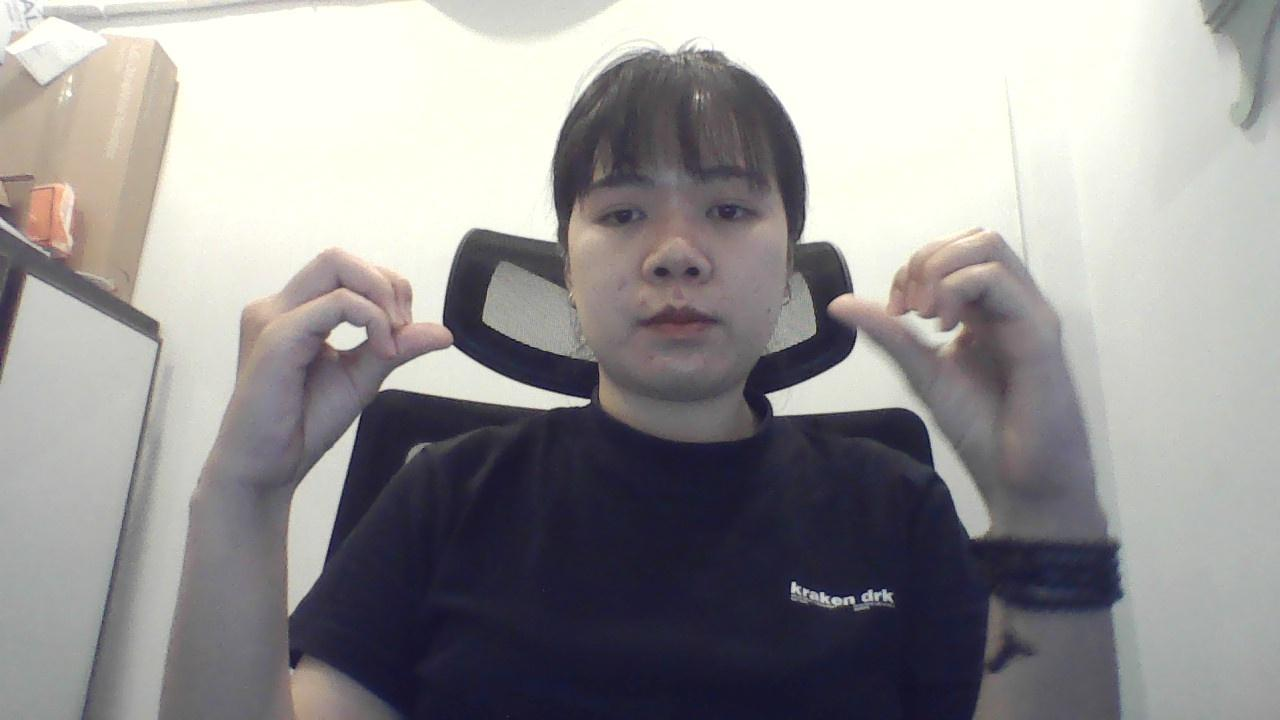S: (204, 224, 467, 519)
